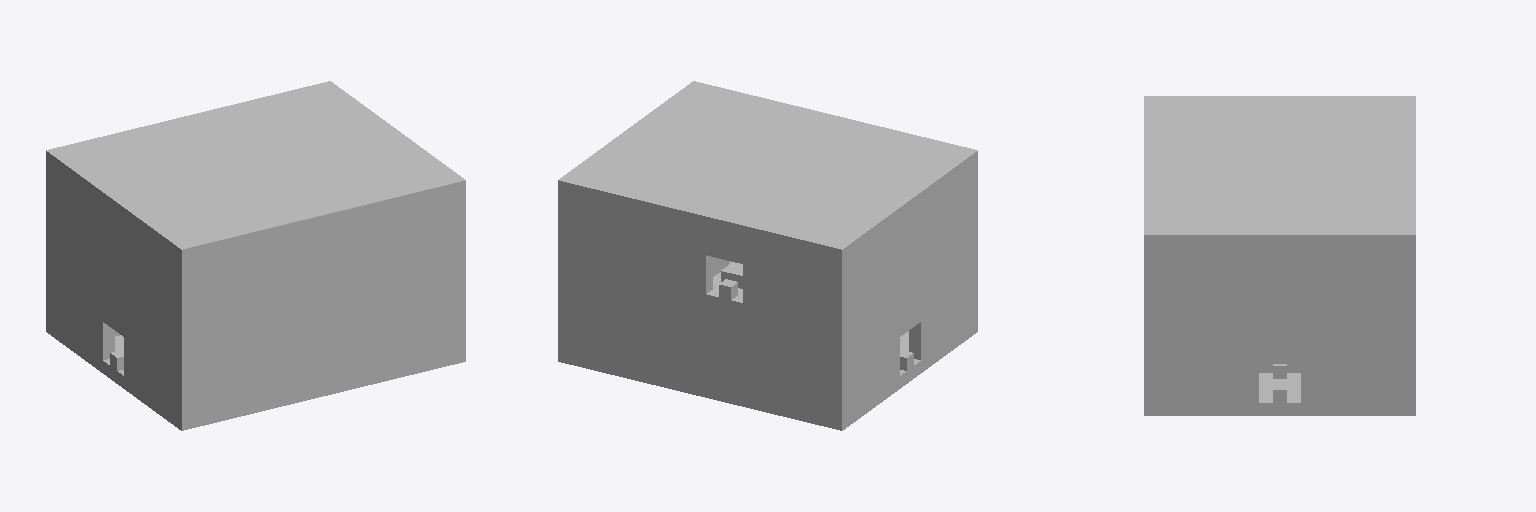
Rendered from illager_hideout_5x6_1.obj.
3 views of the same model, side by side, from view 1: azimuth 30°, elevation 25°; view 2: azimuth 150°, elevation 25°; view 3: azimuth 270°, elevation 25° (orthographic).
Parts seen in each view (by area): view 1: illager_hideout_5x6_1; view 2: illager_hideout_5x6_1; view 3: illager_hideout_5x6_1.
Boxes of the visible parts, <box> form: illager_hideout_5x6_1: <box>46,81,465,430</box>; illager_hideout_5x6_1: <box>558,81,977,430</box>; illager_hideout_5x6_1: <box>1144,96,1415,415</box>.
Bounding box in the file's own units: 23 × 14 × 19.